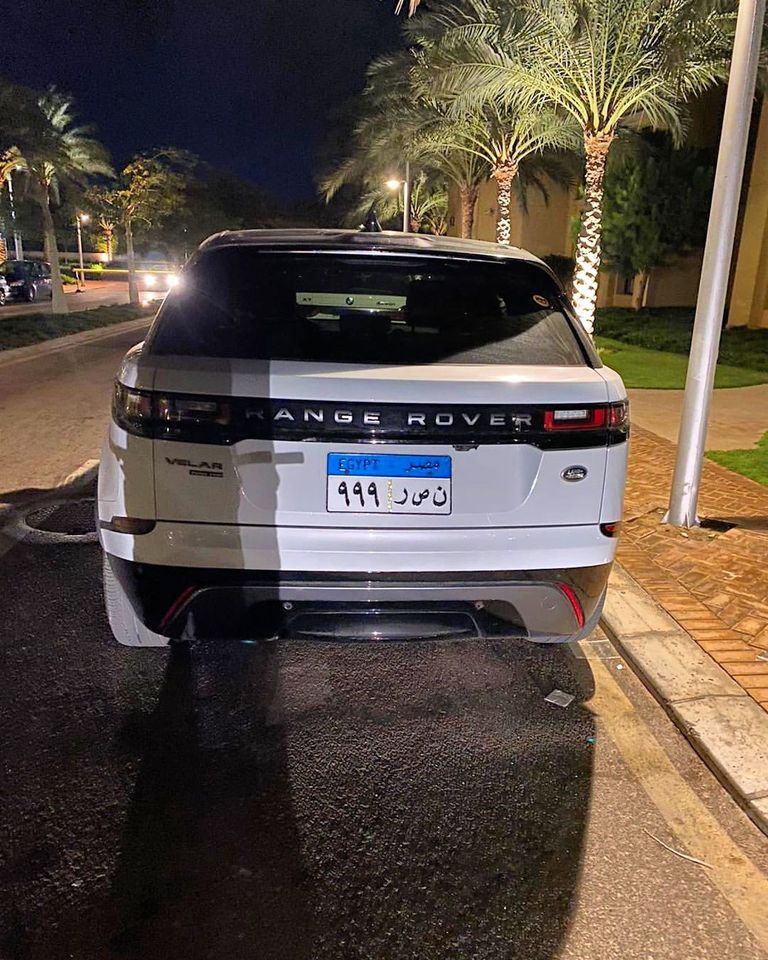carpl: (324, 466, 459, 514)
